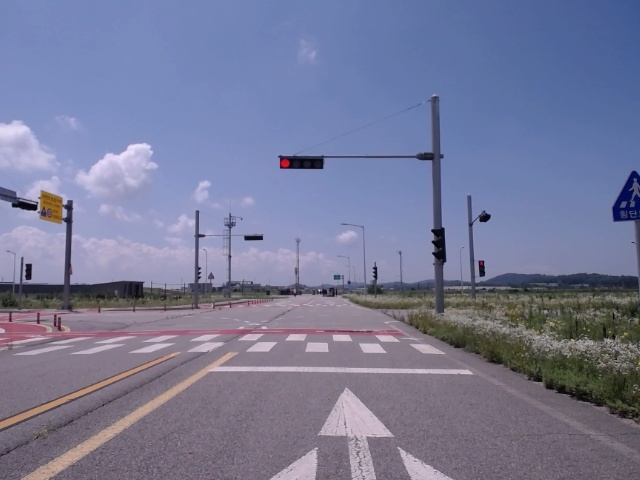red_4: (280, 158, 323, 169)
